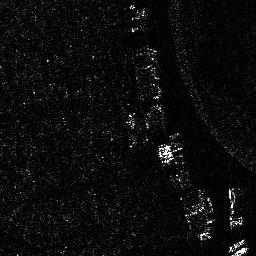ship: (229, 239, 246, 251)
